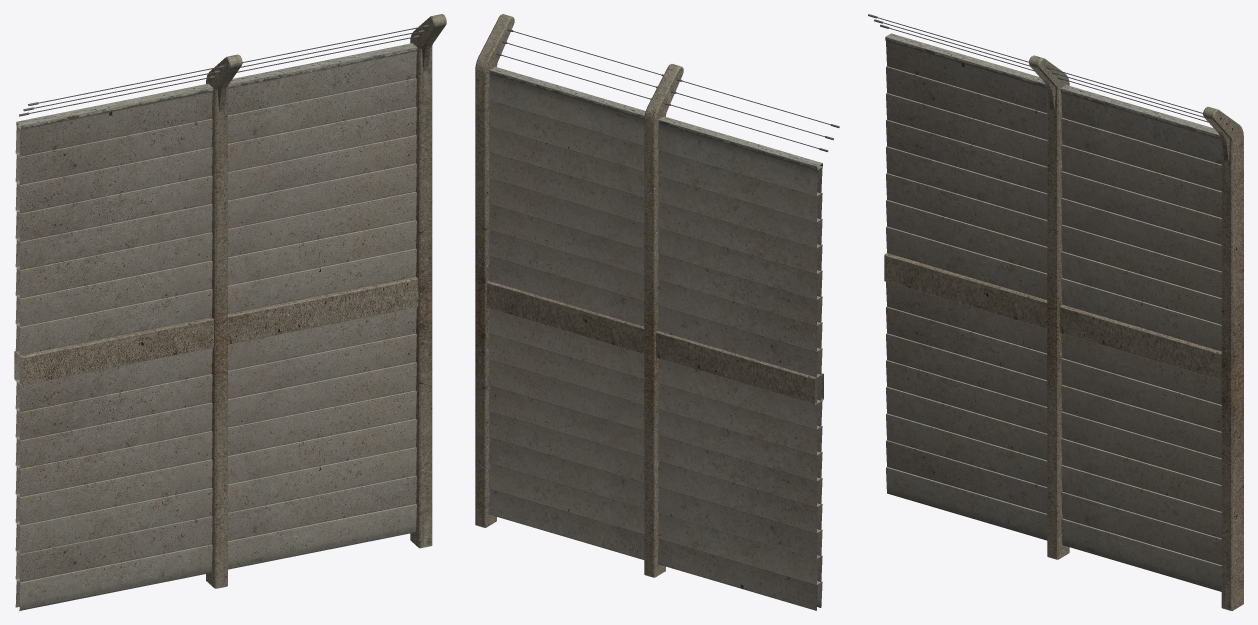
The model's file is object_29.018_lev2.021_lev3.glb.
3 views of the same model, side by side, from view 1: azimuth 30°, elevation 25°; view 2: azimuth 150°, elevation 25°; view 3: azimuth 330°, elevation 25° (orthographic). The views are drawn at different scales.
Visible parts, largest first — view 1: object_29.018_lev2.021_lev3; view 2: object_29.018_lev2.021_lev3; view 3: object_29.018_lev2.021_lev3.
Boxes of the visible parts, box(x1,y1,x2,y2) form: object_29.018_lev2.021_lev3: box(14, 14, 446, 610); object_29.018_lev2.021_lev3: box(475, 14, 839, 610); object_29.018_lev2.021_lev3: box(868, 14, 1243, 610).
Bounding box in the file's own units: 11.84 × 15.45 × 2.39.
1 material, 1 textured.
